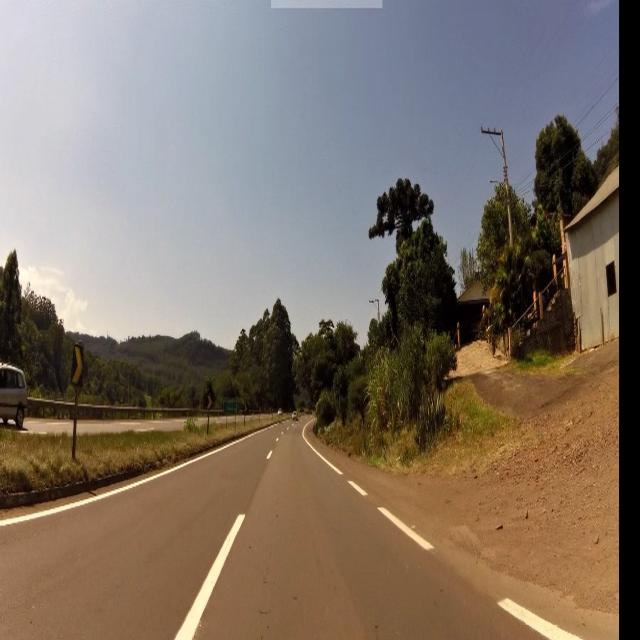Del: (70, 342, 82, 385), (205, 394, 212, 409)
